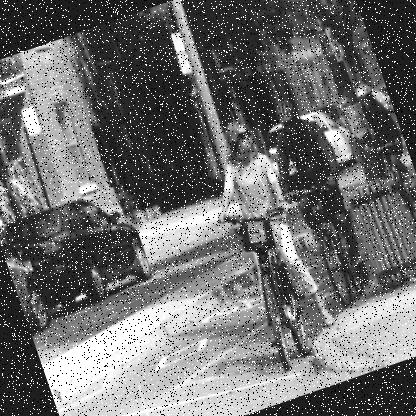Car: (0, 184, 154, 323), (262, 104, 360, 190), (2, 238, 53, 335), (370, 88, 402, 141), (379, 85, 394, 114)
